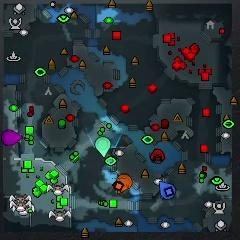p1: (159, 180, 176, 201)
p2: (95, 135, 112, 158)
p3: (1, 129, 22, 146)
p5: (116, 172, 132, 195)
